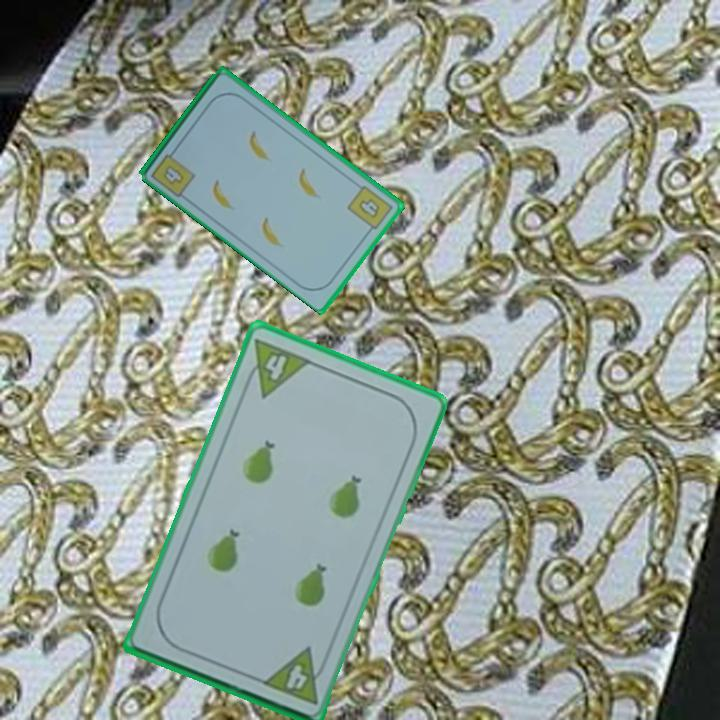4b: (343, 181, 396, 237), (147, 144, 198, 200)
4p: (239, 335, 314, 401), (258, 644, 331, 707)
